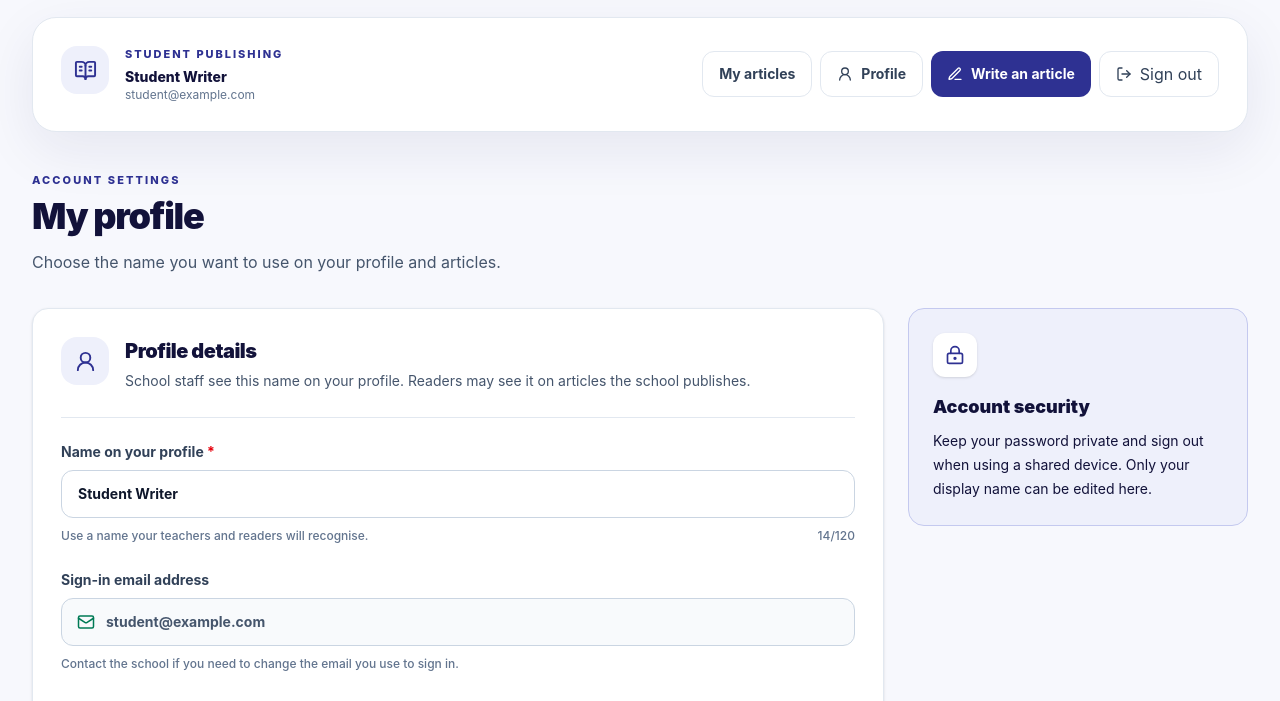
student profile and workspace › does not change the app profile when the canonical account update fails
This screenshot has width=1280, height=701.
Replace the text in the field labelled "Name on your profile" with "Aarav Shah" at (458, 494), box [61, 470, 855, 518]
(page scrolled)
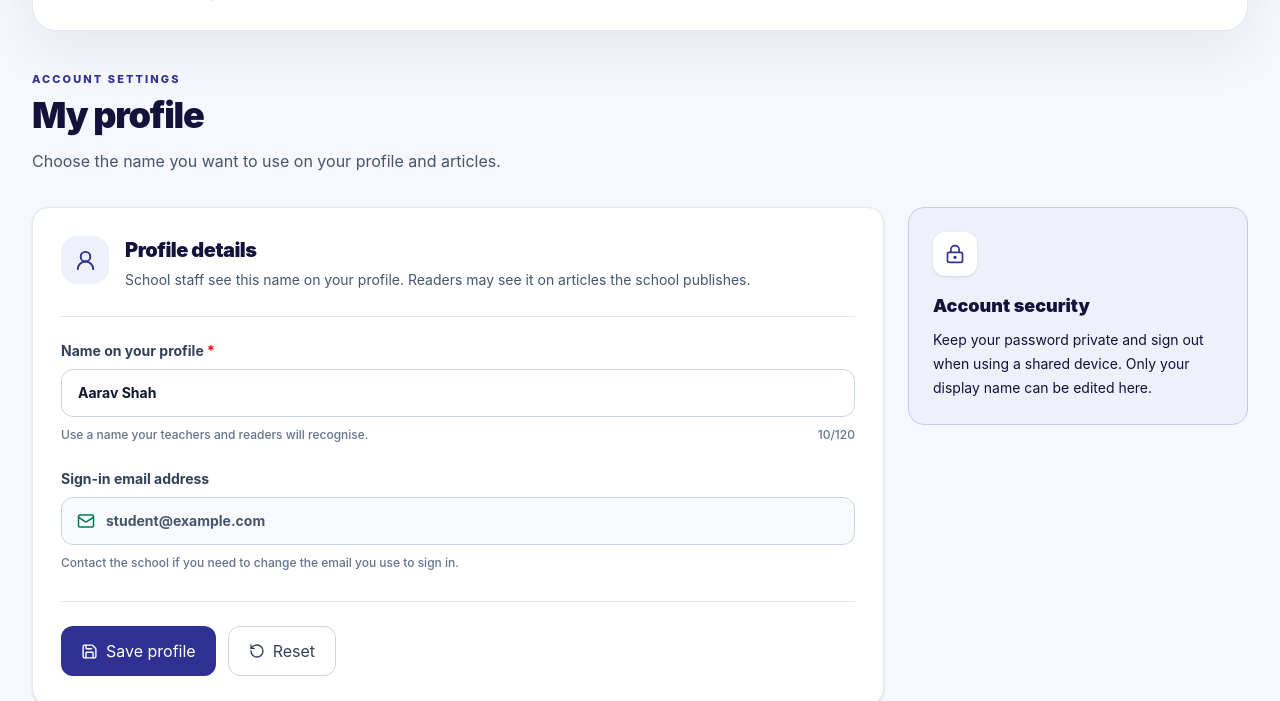
Click the button "Save profile" at (138, 651), box [61, 626, 216, 676]
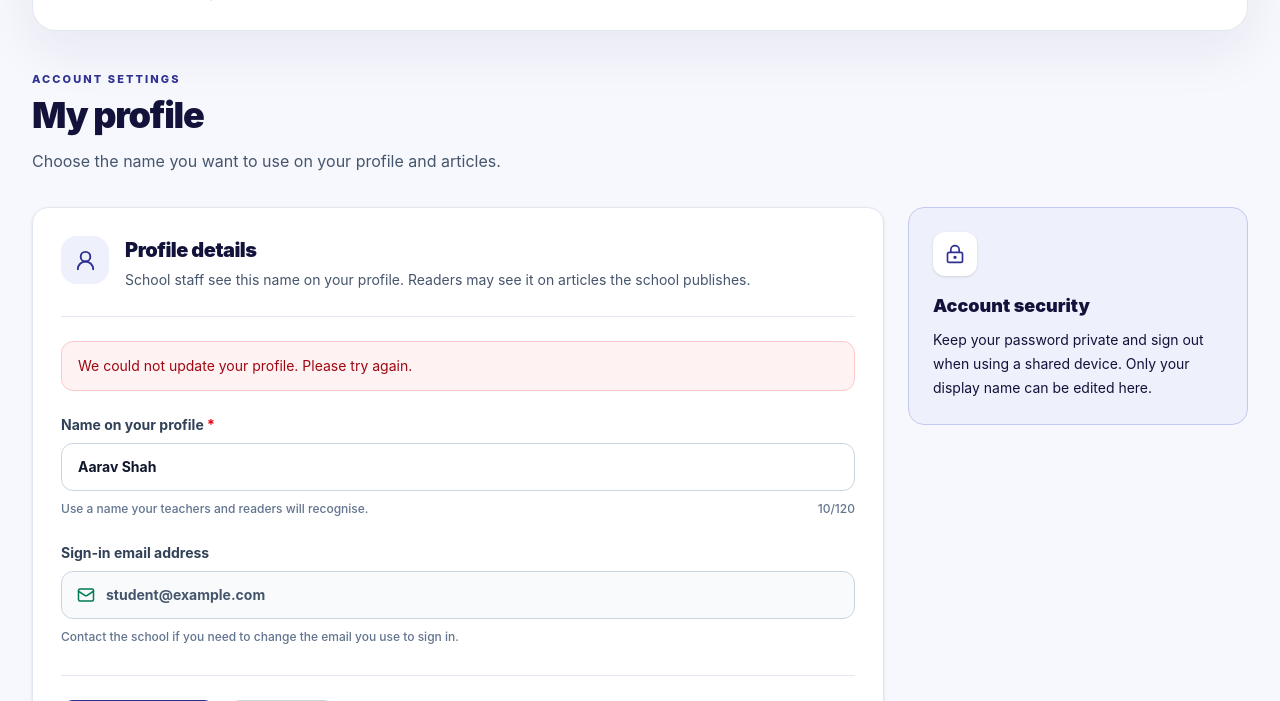
Now the message shows "could not update your profile", box [78, 357, 412, 374]
